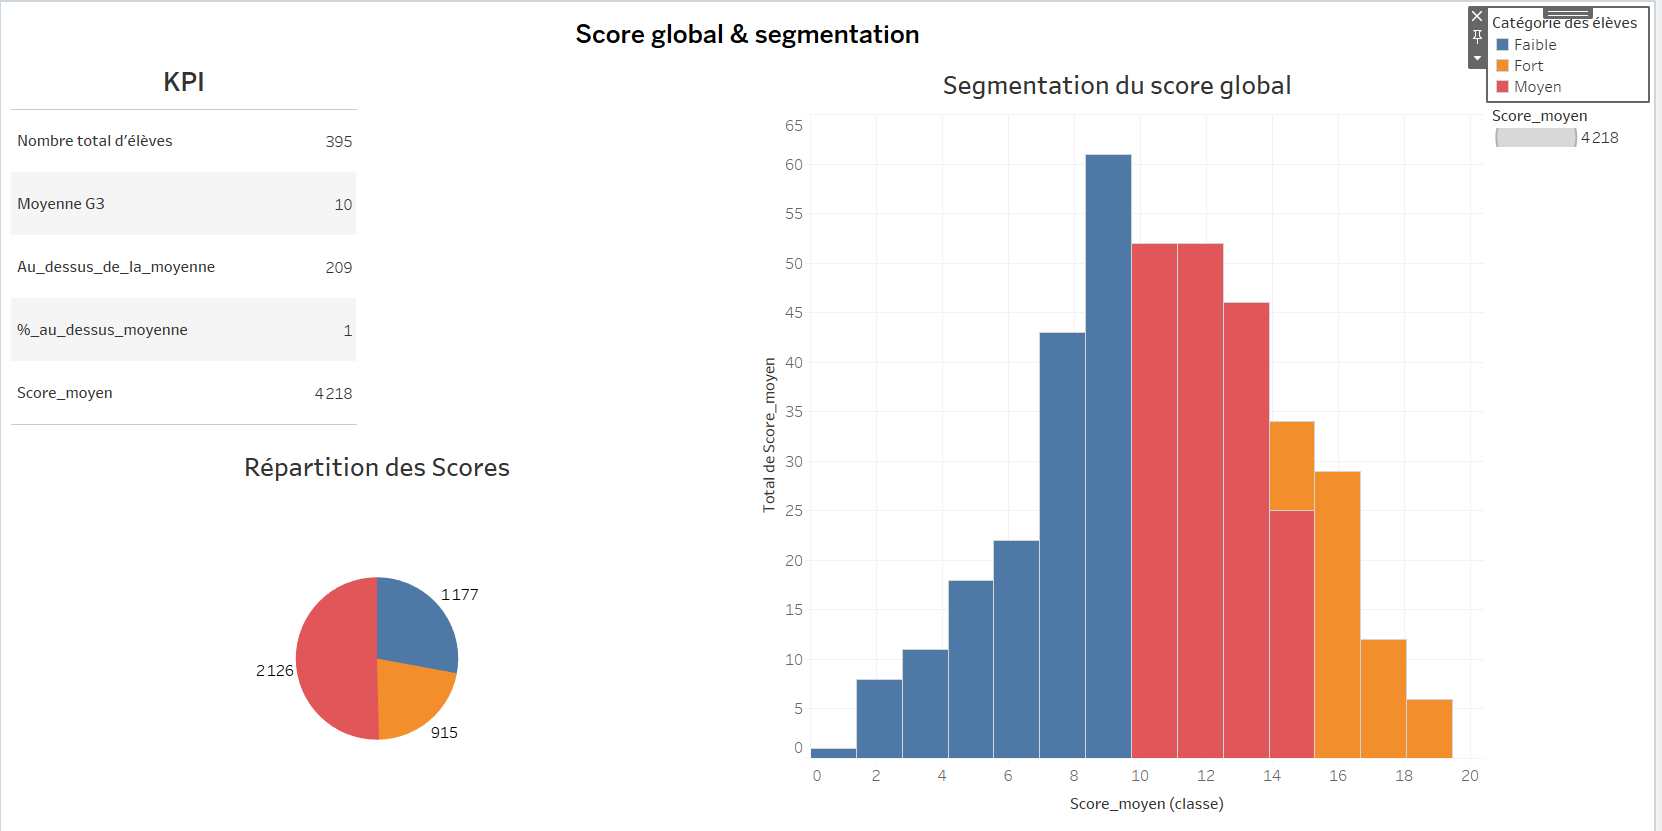

The page's visual inventory and layout, read from the dashboard file:
{"tool":"tableau","page":{"name":"Score global & segmentation","canvas":[1000,1000],"units":"permille","ordinal":3},"visuals":[{"type":"text","box":[4.8,9.6,893.8,62.4]},{"type":"legend","title":"Segmentation du score global","param":"[federated.1fipl6l15pd20x1gmdwpp1nmb3ds].[none:Calculation_3114520624600719366:n","box":[898.6,9.6,96.6,111.6]},{"type":"worksheet","title":"KPI (2)","mark":"Automatic","box":[4.8,72,446.9,459.2]},{"type":"worksheet","title":"Segmentation du score global","mark":"Automatic","rows":["Calculation_3114520624600555525"],"cols":["Score_moyen (classe)"],"box":[451.7,72,446.9,918.4]},{"type":"legend","title":"Répartition des Scores","param":"[federated.1fipl6l15pd20x1gmdwpp1nmb3ds].[sum:Calculation_3114520624600555525:qk","box":[898.6,121.2,96.6,61.2]},{"type":"worksheet","title":"Répartition des Scores","mark":"Pie","box":[4.8,531.2,446.9,459.2]}]}

Visuals, with their boxes on the dashboard's canvas, which has no fixed pixel size, in thousandths of its width and height (x1, y1, x2, y2). These are canvas units, not pixel positions in the 1662x831 screenshot, which may show the page scaled, cropped or inside an application window:
text: locate(5, 10, 899, 72)
"Segmentation du score global" legend: locate(899, 10, 995, 121)
"KPI (2)" worksheet: locate(5, 72, 452, 531)
"Segmentation du score global" worksheet: locate(452, 72, 899, 990)
"Répartition des Scores" legend: locate(899, 121, 995, 182)
"Répartition des Scores" worksheet (Pie marks): locate(5, 531, 452, 990)
